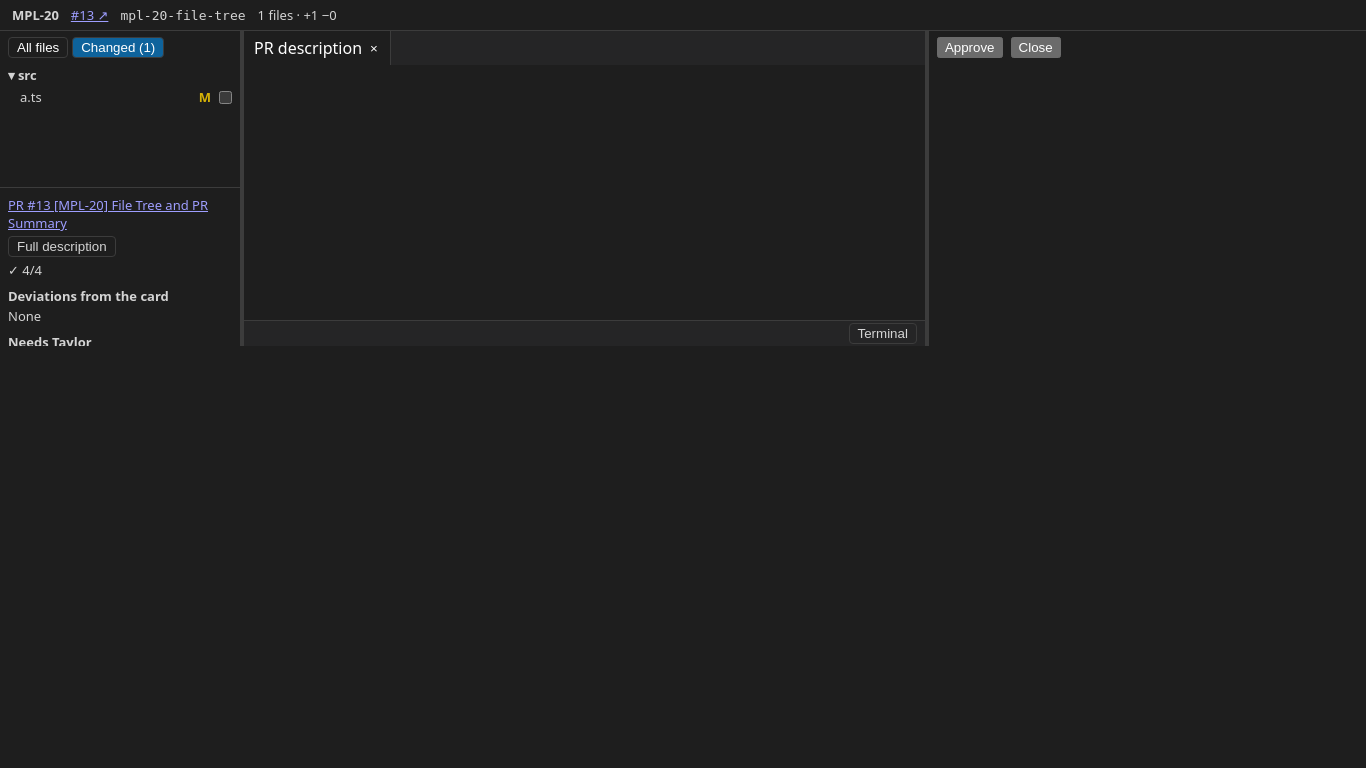
CardTab › Approve asks first while a changed file is not viewed: one file
Expected: the checkbox named "Viewed src/a.ts" is shown, [219,90,232,104]
Click the button "Approve": x=970, y=48 [937,37,1003,58]
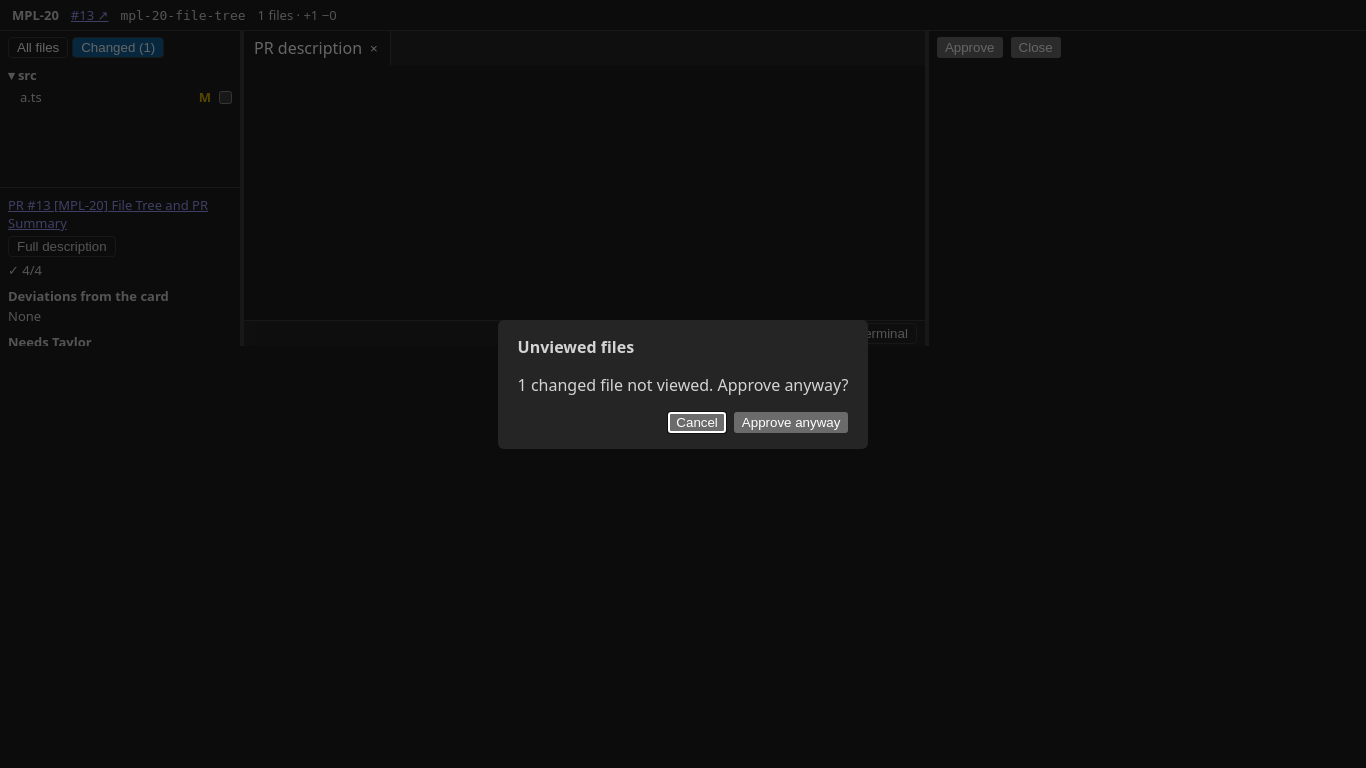
Expected: the dialog shows "1 changed file not viewed. Approve anyway?", [518,374,848,396]
